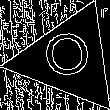O_S: (42, 31, 95, 87)
